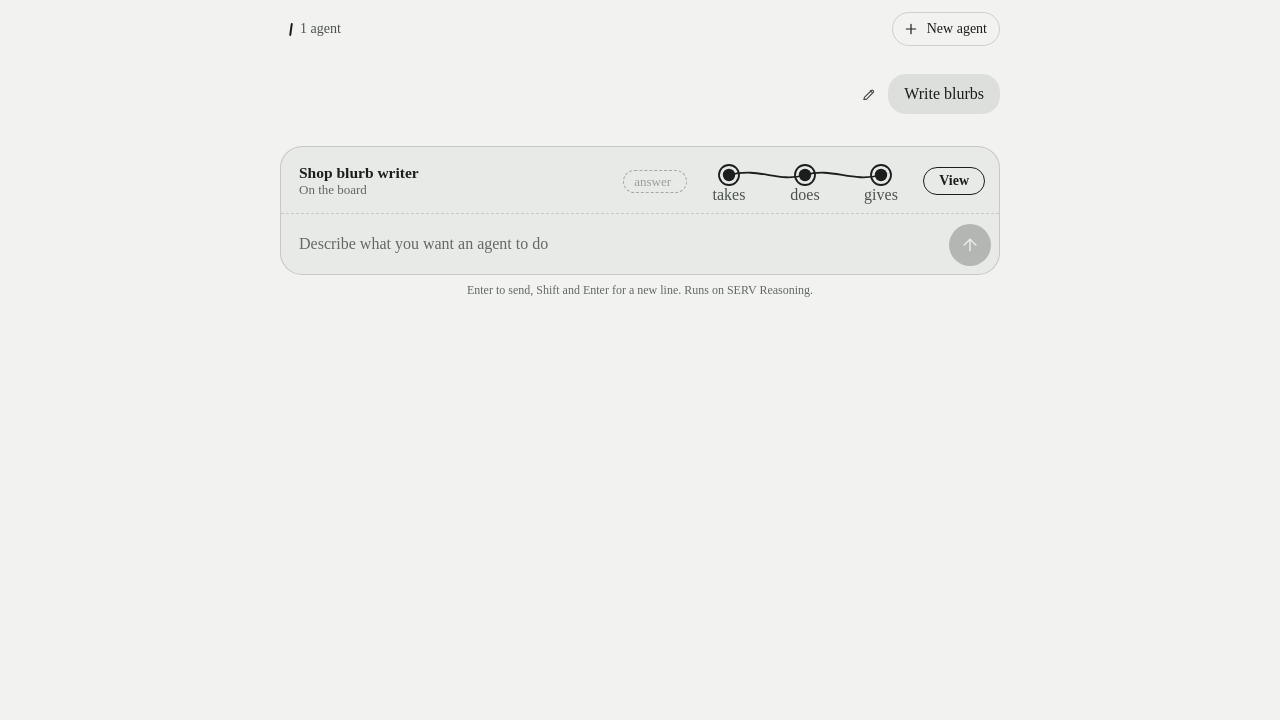
Test: publishing from the chat › takes a published helper off the board from the agents popover
Click the button "1 agent": click(315, 29) [280, 15, 351, 43]
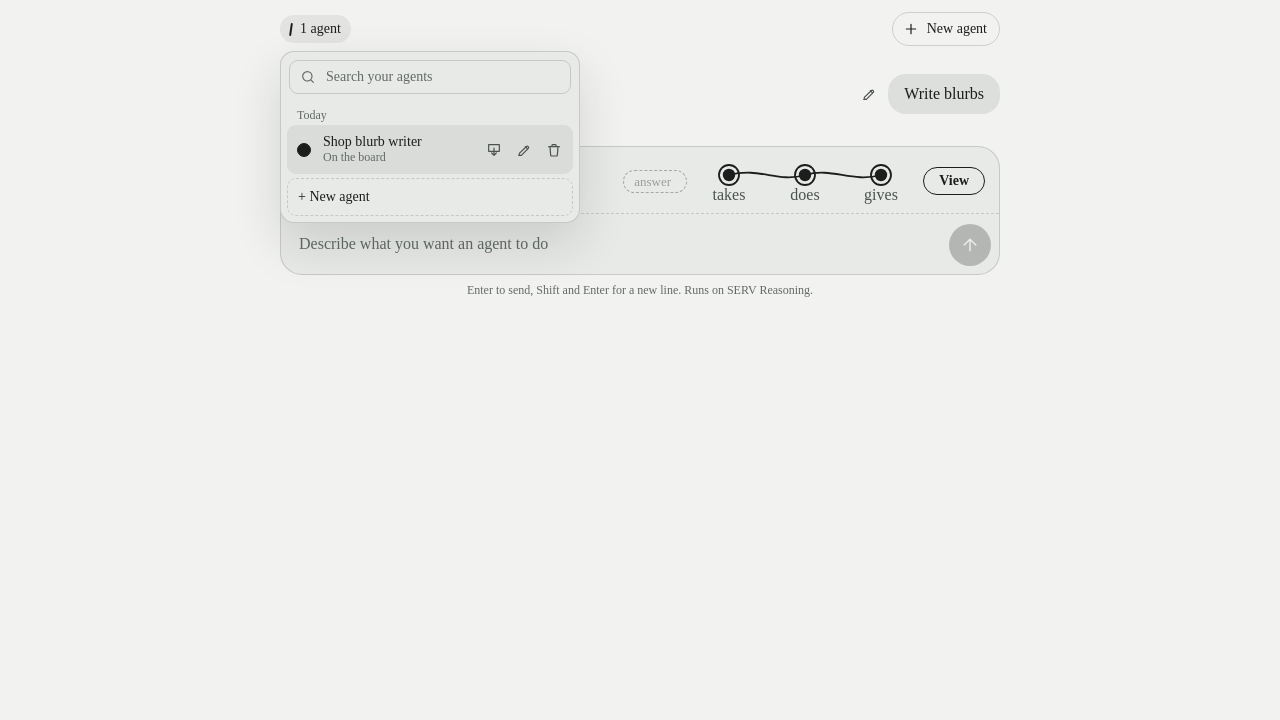
Click the button "Shop blurb writer On the board": click(383, 150) [287, 125, 479, 174]
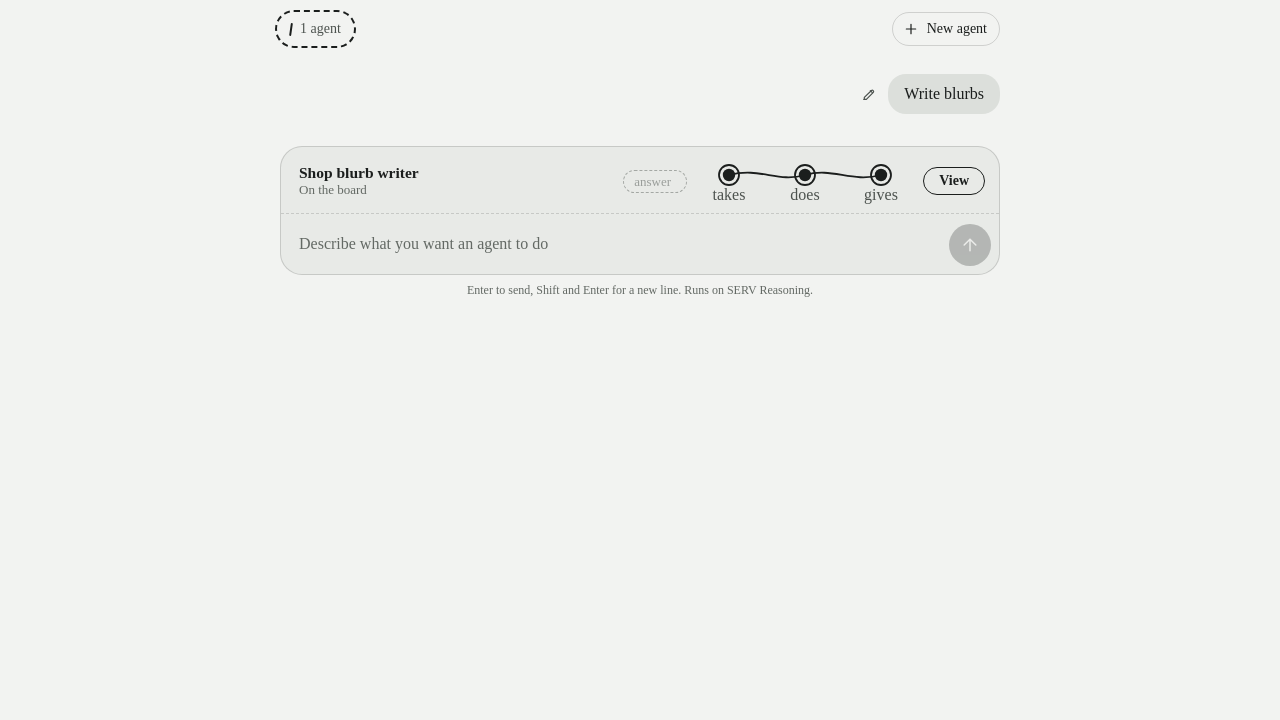
Expected: the link "View" is shown, [923, 167, 985, 195]
Click the button "1 agent": click(315, 29) [280, 15, 351, 43]
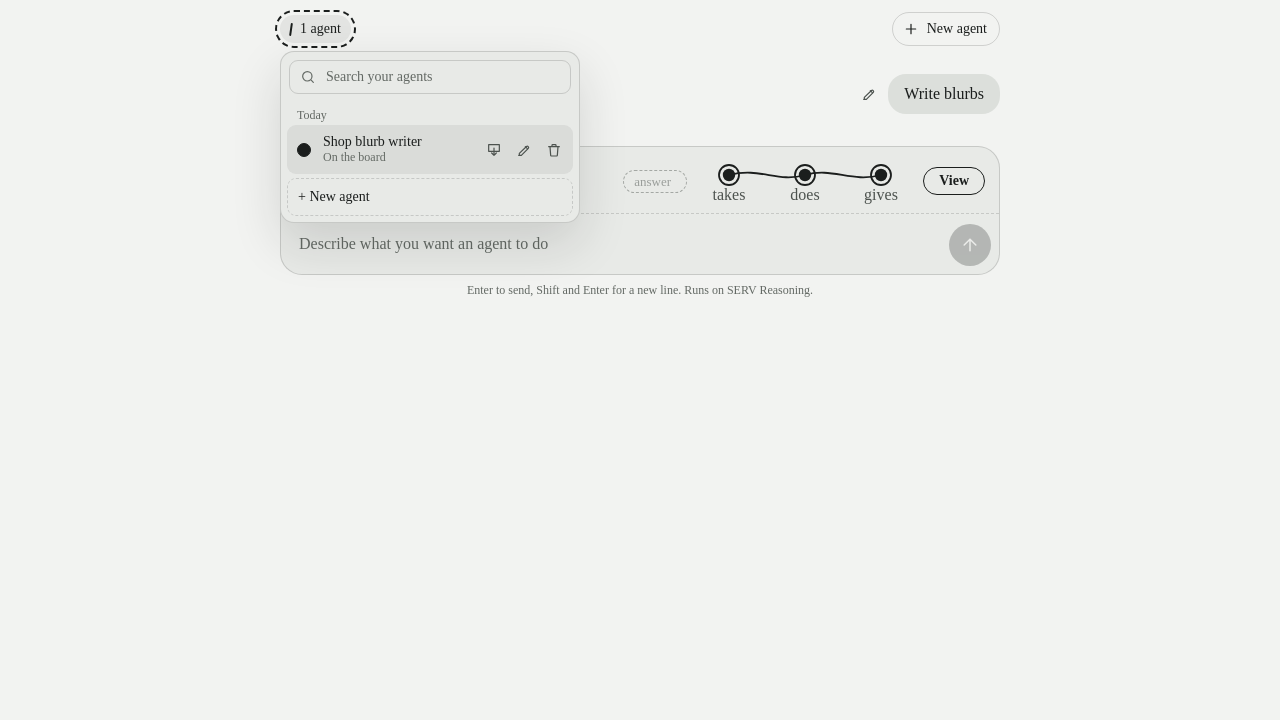
Expected: the button "Shop blurb writer On the board" is shown, [287, 125, 479, 174]
Click the button named "Take Shop blurb writer off the board": click(494, 150) [479, 134, 509, 164]
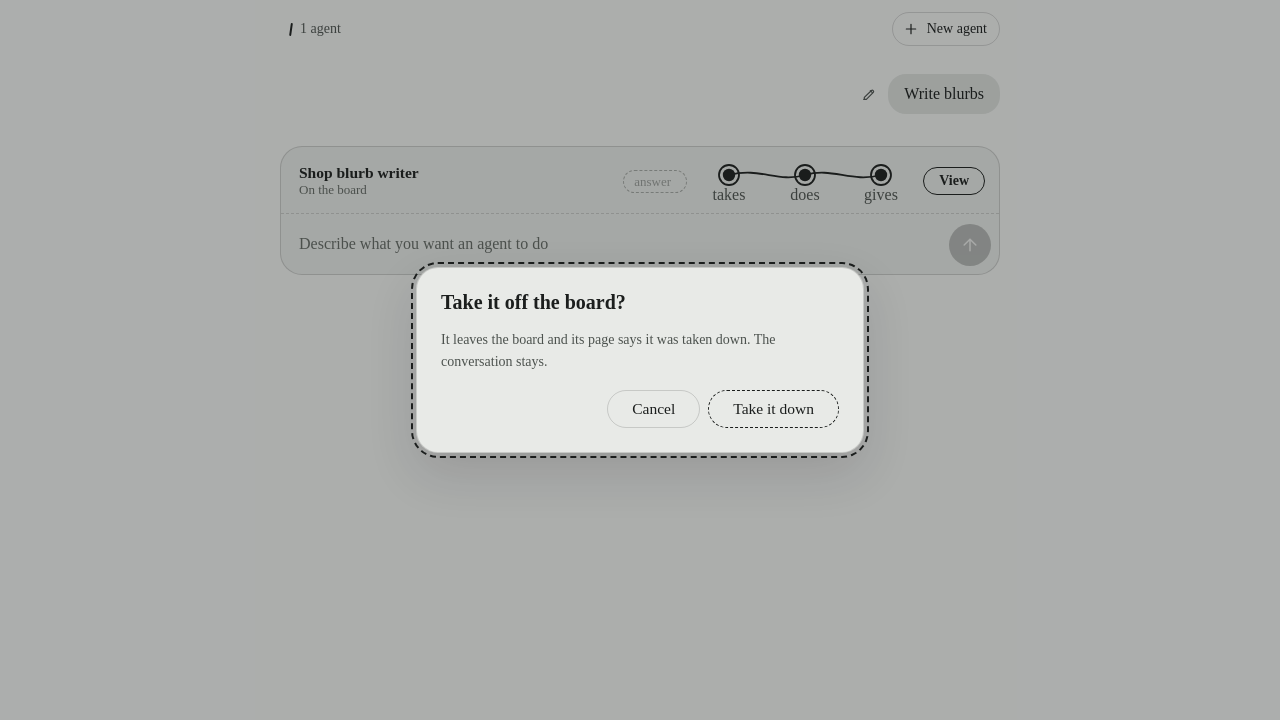
Click the button "Take it down": click(774, 409) [708, 390, 839, 428]
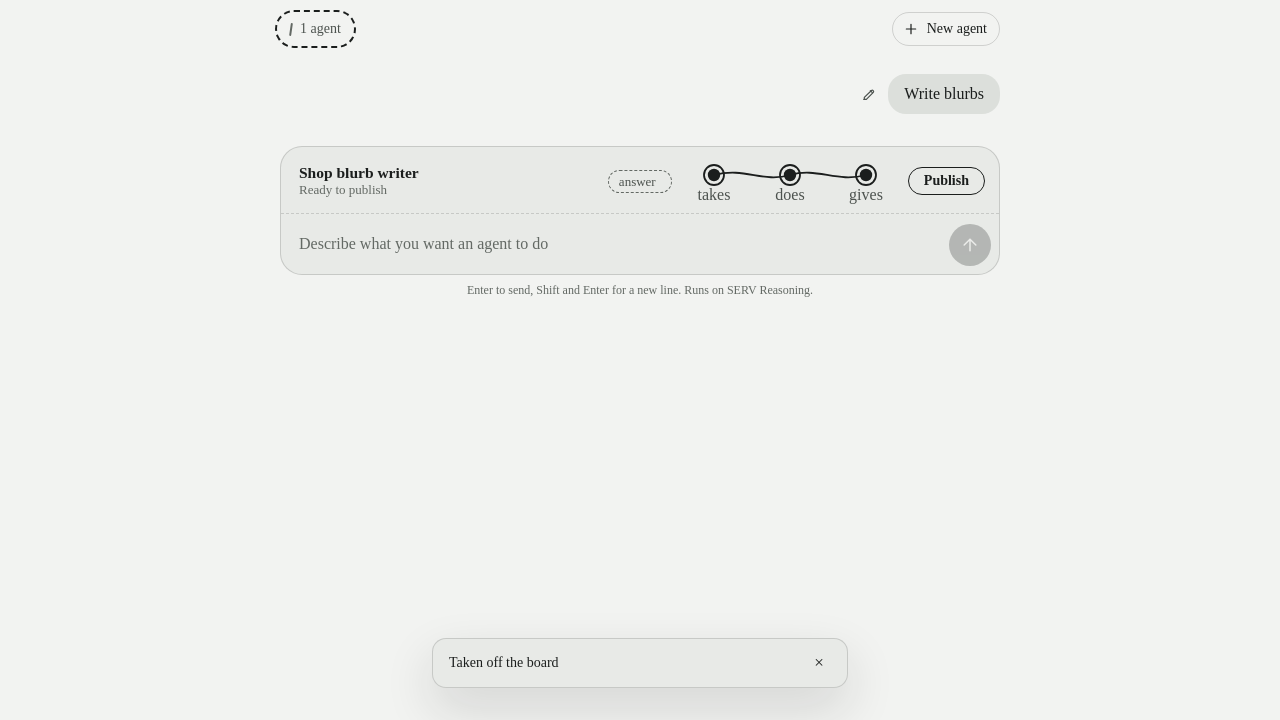
Expected: the link "View" is gone
Expected: the button "Publish" is shown, [908, 167, 985, 195]
